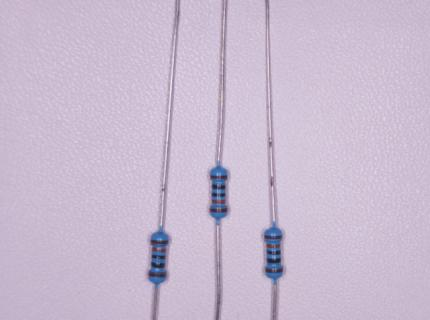Black band: (151, 261, 165, 268), (152, 254, 166, 260), (266, 250, 281, 255), (266, 258, 281, 263), (212, 185, 226, 189), (212, 193, 226, 197)
Brown band: (265, 267, 283, 274), (149, 272, 166, 278), (151, 240, 169, 245), (210, 208, 228, 213), (264, 235, 282, 239), (210, 175, 228, 179)
Orange band: (152, 247, 167, 253), (266, 243, 281, 248), (212, 200, 226, 204)
